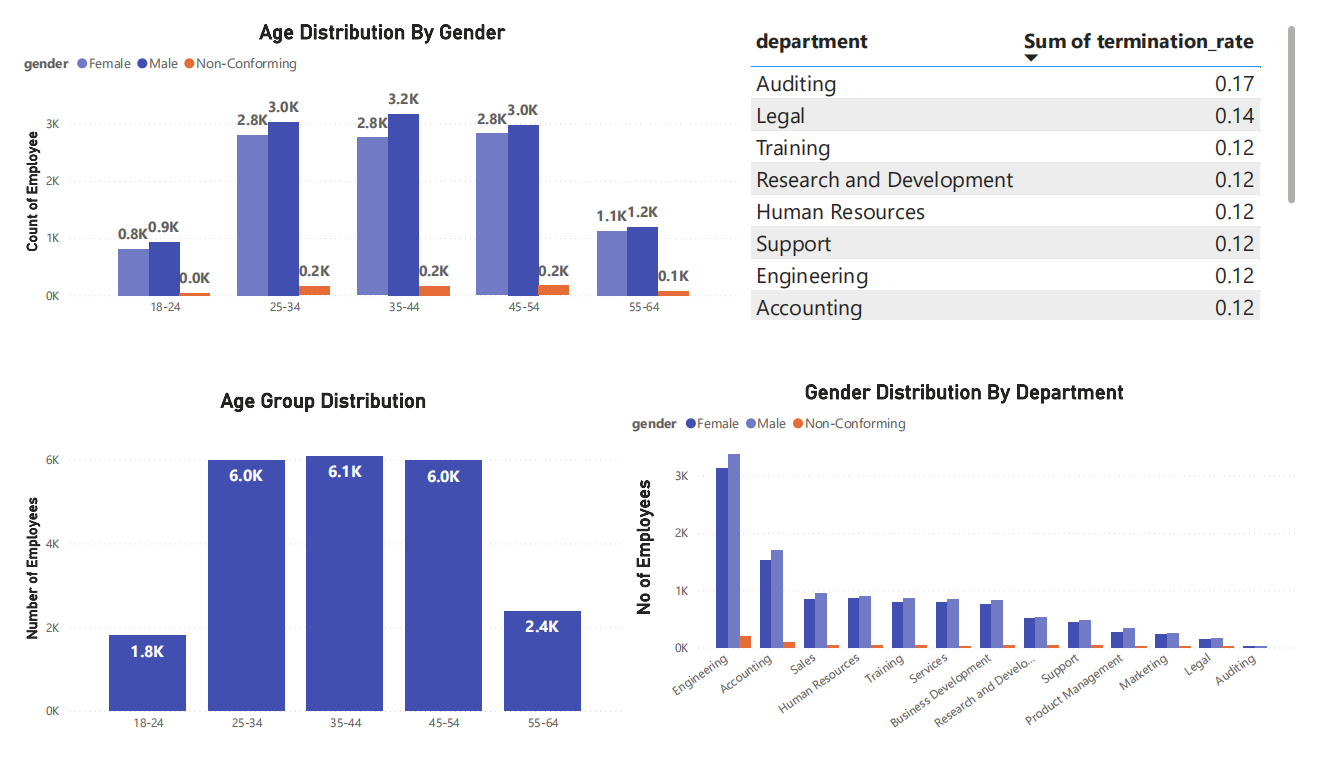

What the dashboard file says about the page in this screenshot:
{"tool":"powerbi","page":{"name":"Page 2","canvas":[1280,720],"ordinal":1},"visuals":[{"type":"columnChart","title":"Age Group Distribution","fields":{"Category":["age_group.age_group"],"Y":["Sum(age_group.count)"]},"box":[0,368.1,607.7,352.2],"z":0},{"type":"clusteredColumnChart","title":"Age Distribution By Gender","fields":{"Category":["age_group_gender.age_group"],"Y":["Sum(age_group_gender.count)"],"Series":["age_group_gender.gender"]},"box":[0,0,725.1,304.5],"z":1},{"type":"tableEx","fields":{"Values":["turnover_rate.department","Sum(turnover_rate.termination_rate)"]},"box":[725.1,0,555.2,304.5],"z":2},{"type":"clusteredColumnChart","title":"Gender Distribution By Department","fields":{"Category":["gender_dept.department"],"Y":["Sum(gender_dept.count)"],"Series":["gender_dept.gender"]},"box":[607.7,359.5,672.6,360.7],"z":3}]}

Visuals, with their boxes in screenshot pixels (x1, y1, x2, y2), scaled from the page's 1280x720 canvas onto the 1321x760 screenshot:
"Age Group Distribution" columnChart: x1=0, y1=389, x2=627, y2=759
"Age Distribution By Gender" clusteredColumnChart: x1=0, y1=0, x2=748, y2=321
tableEx - turnover_rate.department x Sum(turnover_rate.termination_rate): x1=748, y1=0, x2=1320, y2=321
"Gender Distribution By Department" clusteredColumnChart: x1=627, y1=379, x2=1320, y2=759
